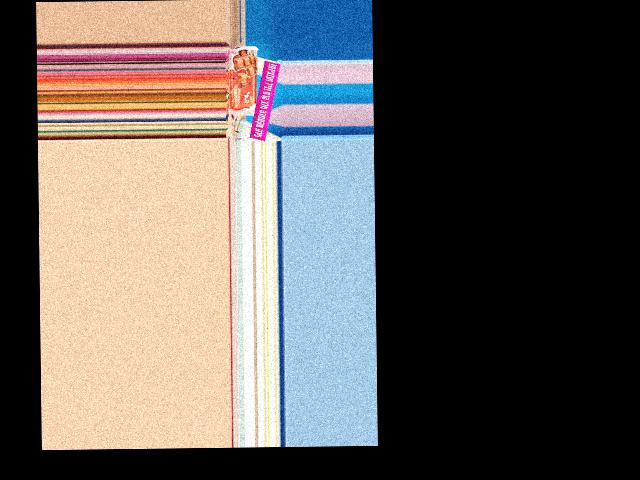chocolate: (227, 44, 259, 117)
